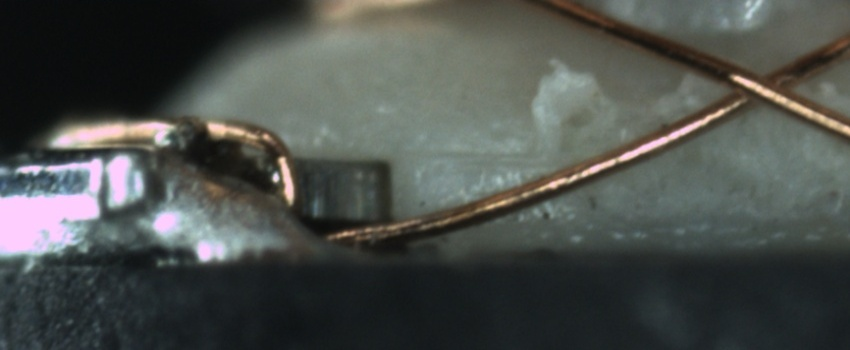CL: (702, 51, 814, 119)
DL: (403, 124, 558, 188)
TE: (45, 113, 312, 232)
